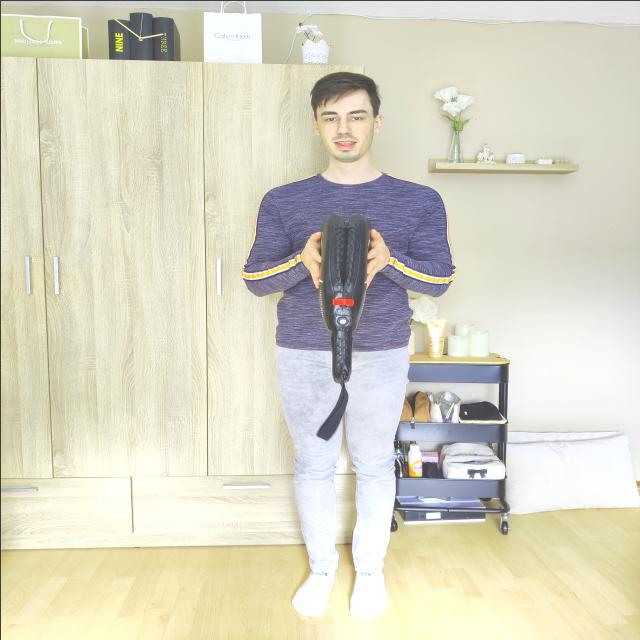paddle: (318, 210, 372, 382)
